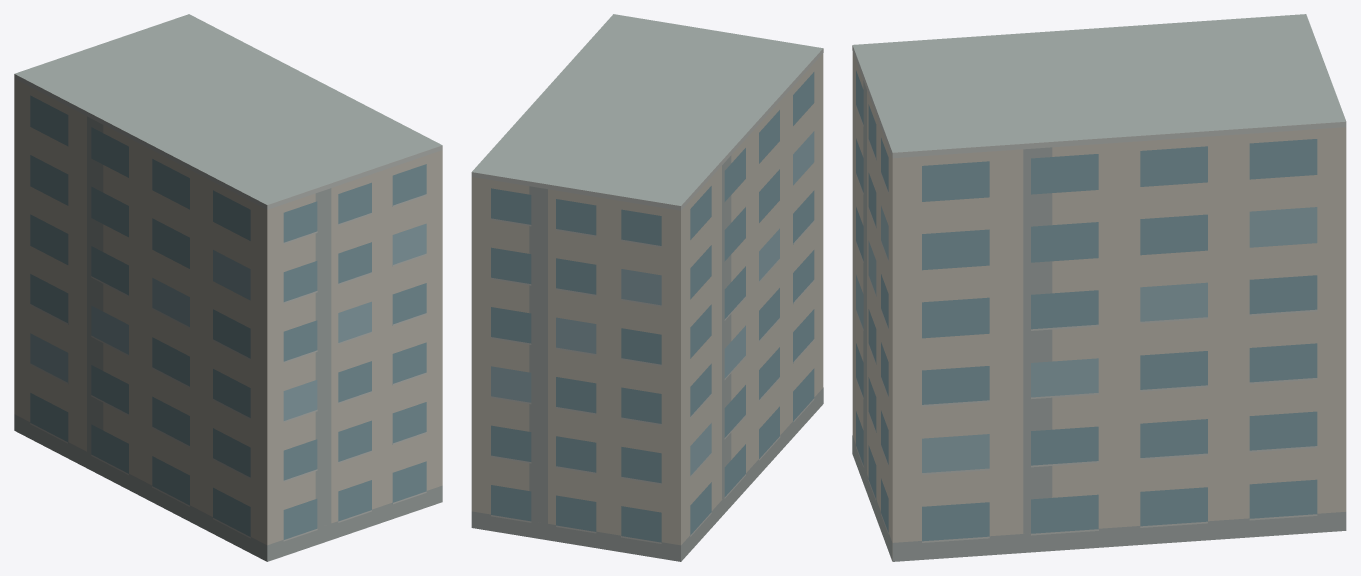
The model's file is survey-upis-32750980.glb.
The picture shows the model from 3 angles, left to right: view 1: azimuth 30°, elevation 25°; view 2: azimuth 150°, elevation 25°; view 3: azimuth 270°, elevation 25°; orthographic projection. The views are drawn at different scales.
Parts seen in each view (by area): view 1: survey-upis-32750980.tmp; view 2: survey-upis-32750980.tmp; view 3: survey-upis-32750980.tmp.
Boxes of the visible parts, x1,y1,x2,y2 form: survey-upis-32750980.tmp: [14, 14, 442, 561]; survey-upis-32750980.tmp: [471, 14, 823, 561]; survey-upis-32750980.tmp: [852, 14, 1346, 561].
Bounding box in the file's own units: 13.33 × 18.3 × 20.04.
